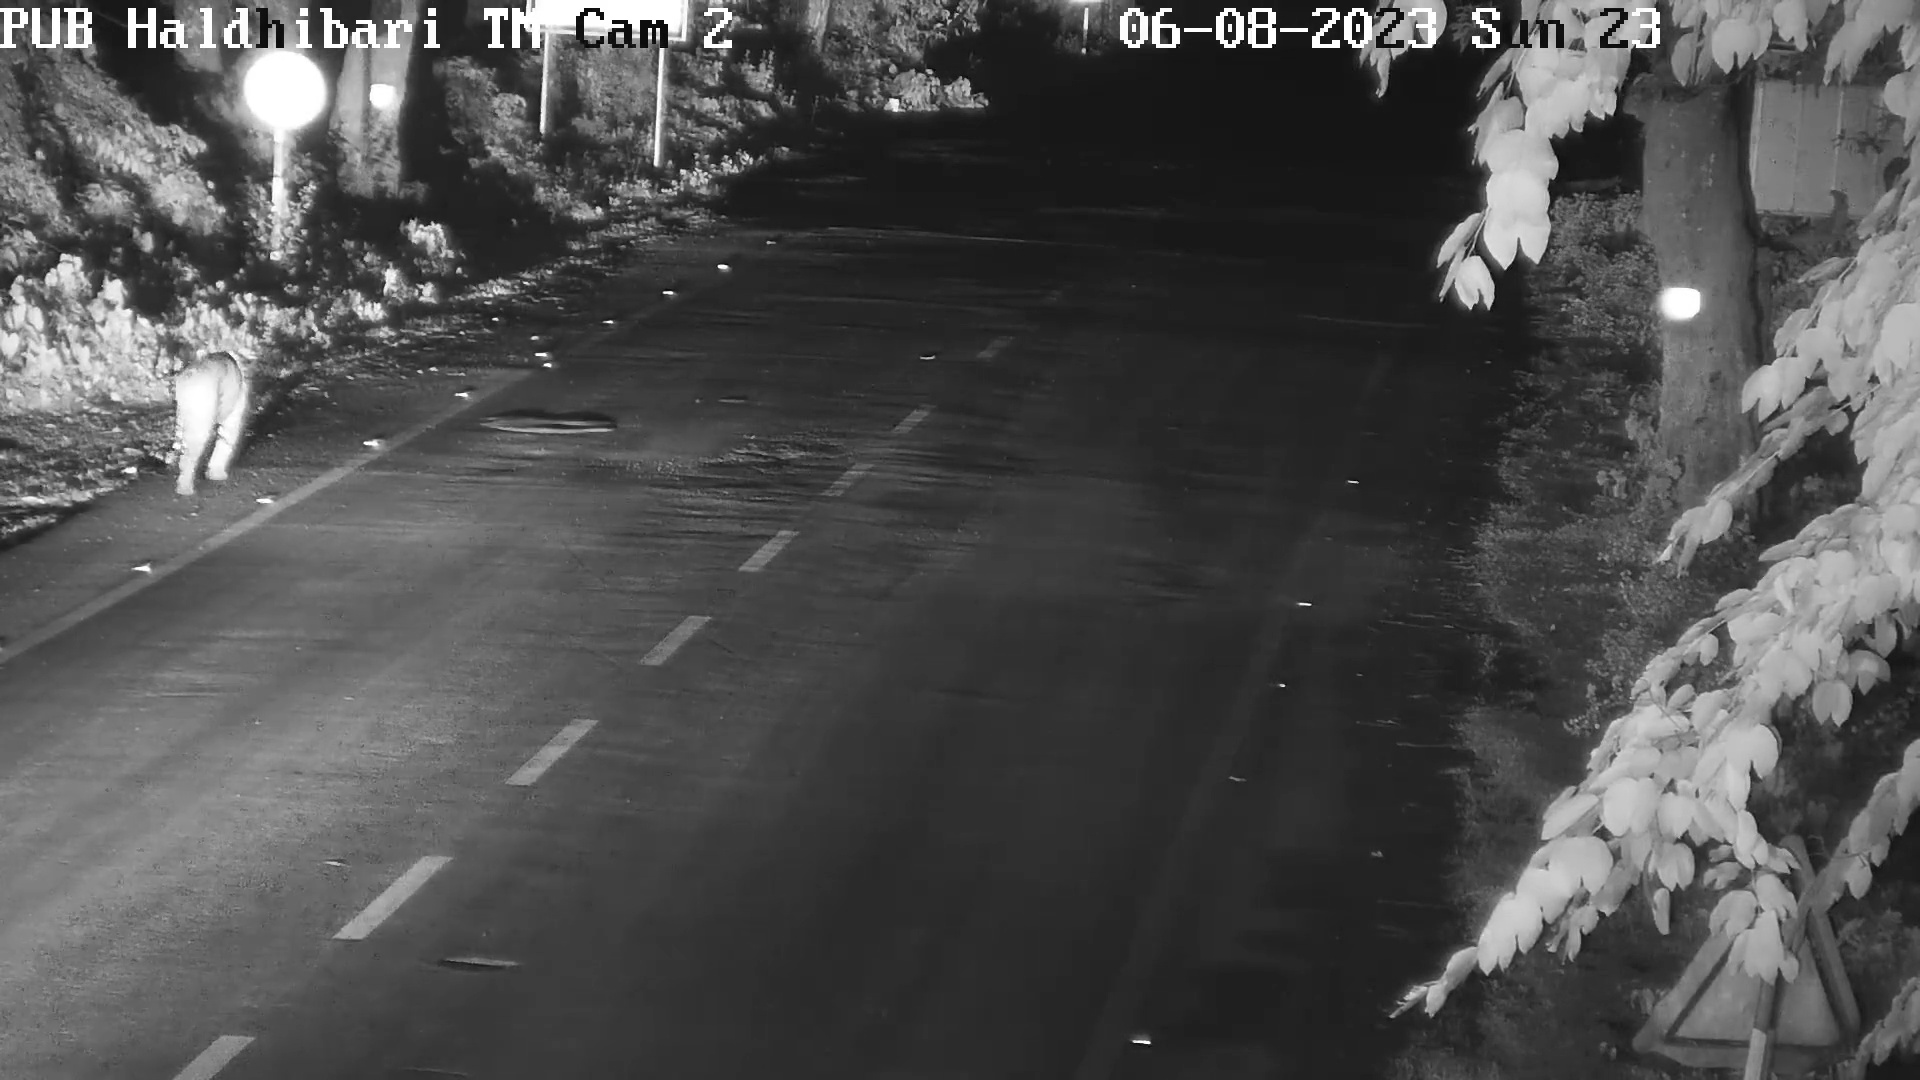tigers: (167, 348, 251, 505)
